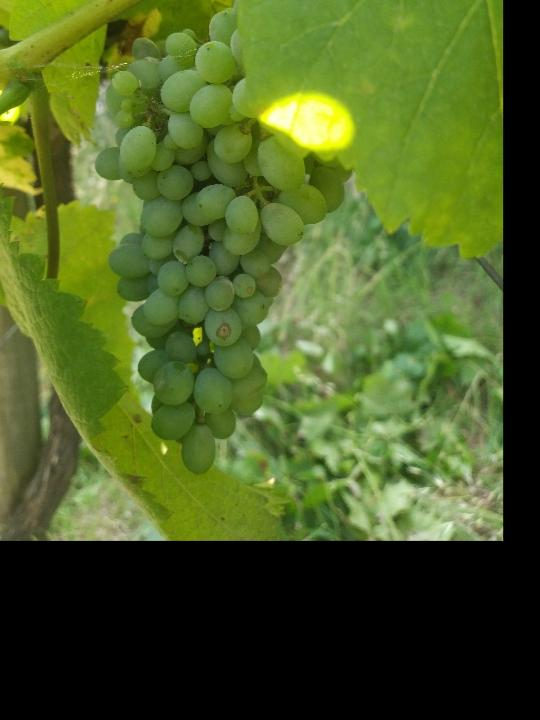grape: (90, 0, 352, 482)
